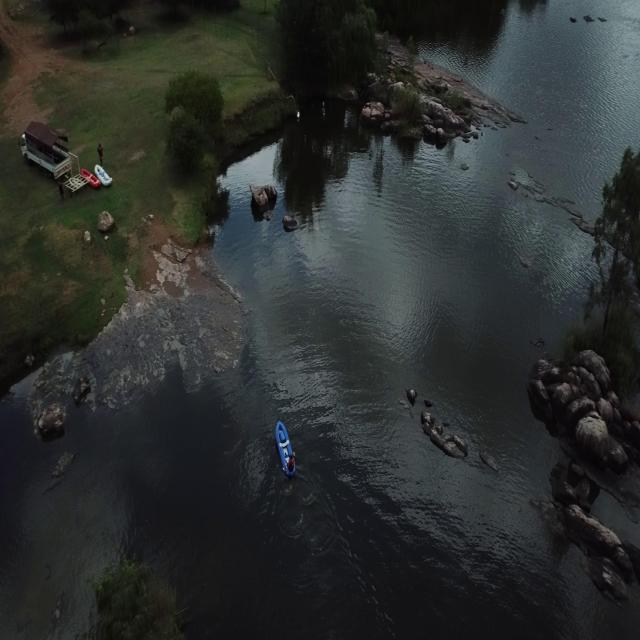kayak: (273, 419, 297, 481)
